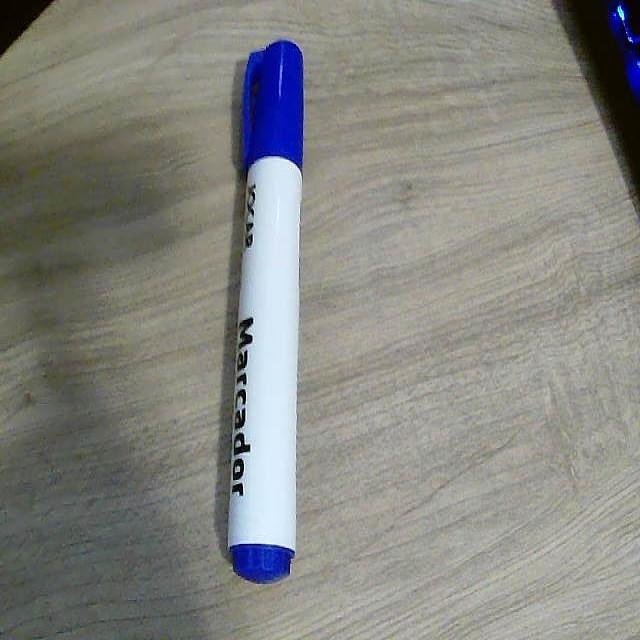caneta: (214, 37, 311, 607)
